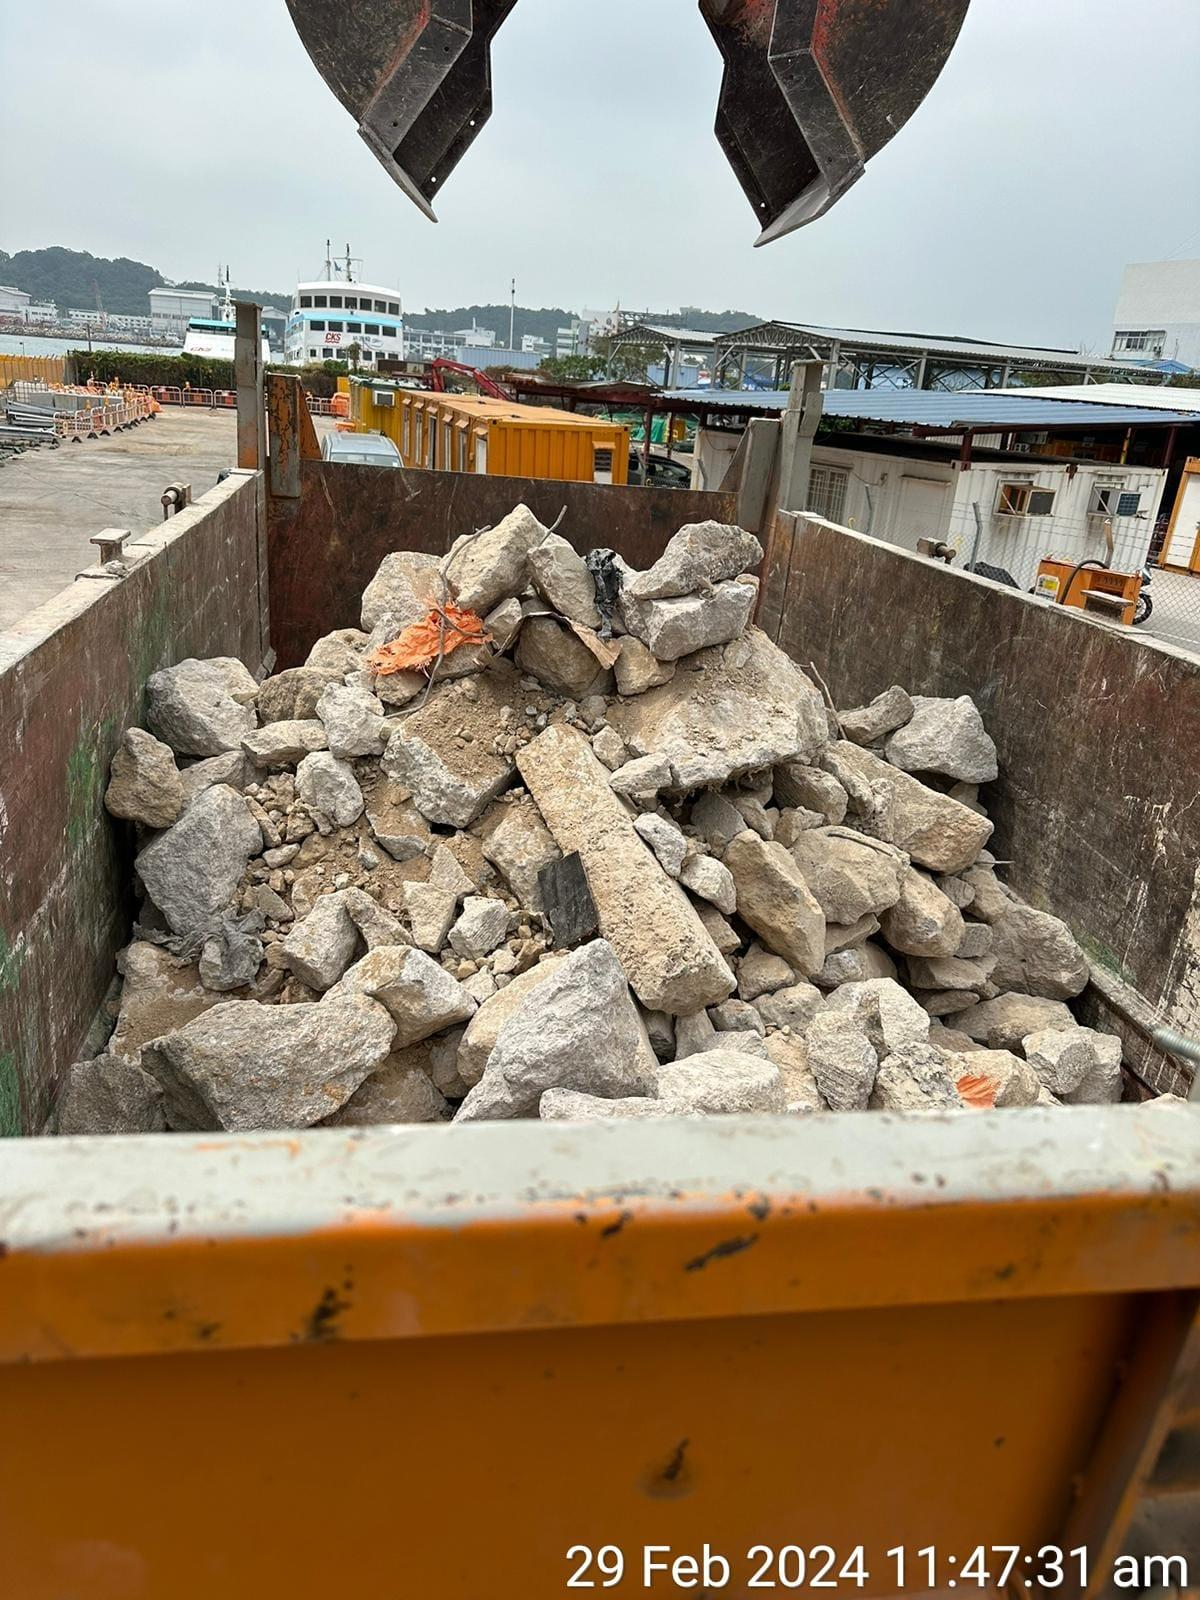stone: (57, 505, 1126, 1128), (512, 721, 737, 1015)
